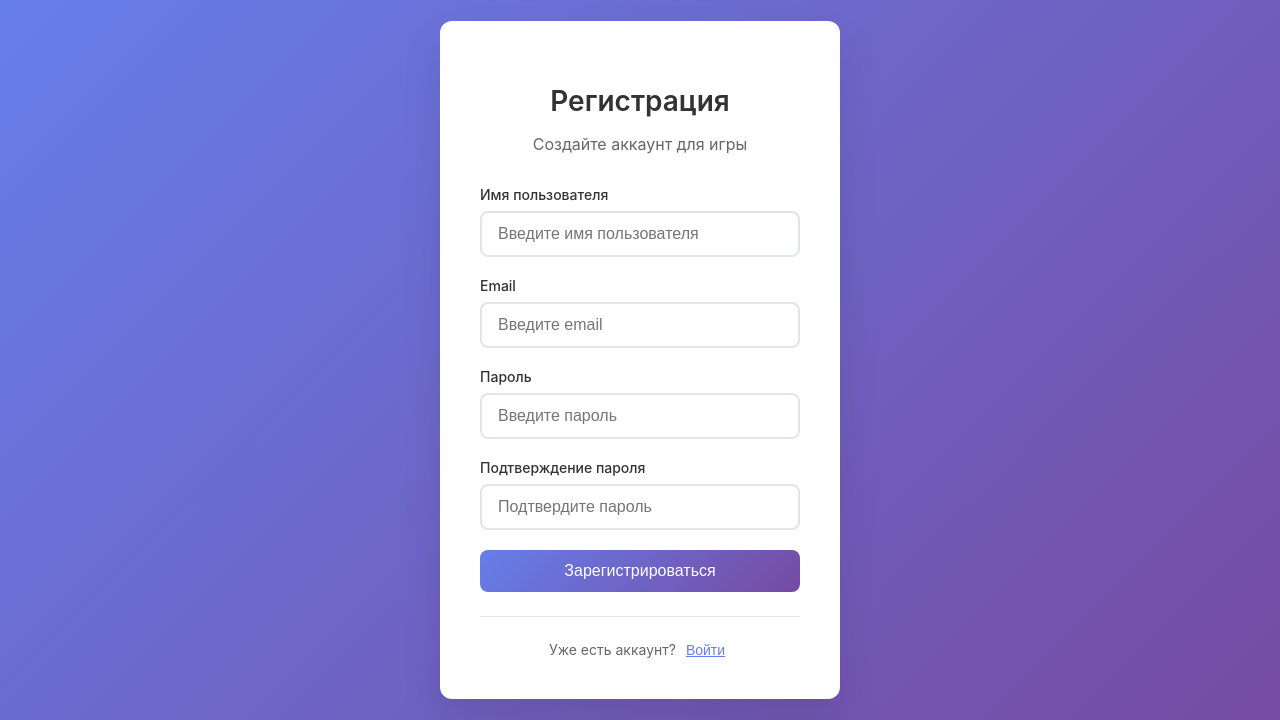
Test: RegisterForm › Validation - username › should show error when username is too short
The width and height of the screenshot is (1280, 720).
Type "ab" into the field labelled "Имя пользователя".
click(640, 234); type("ab")  # box left=480, top=211, right=800, bottom=257
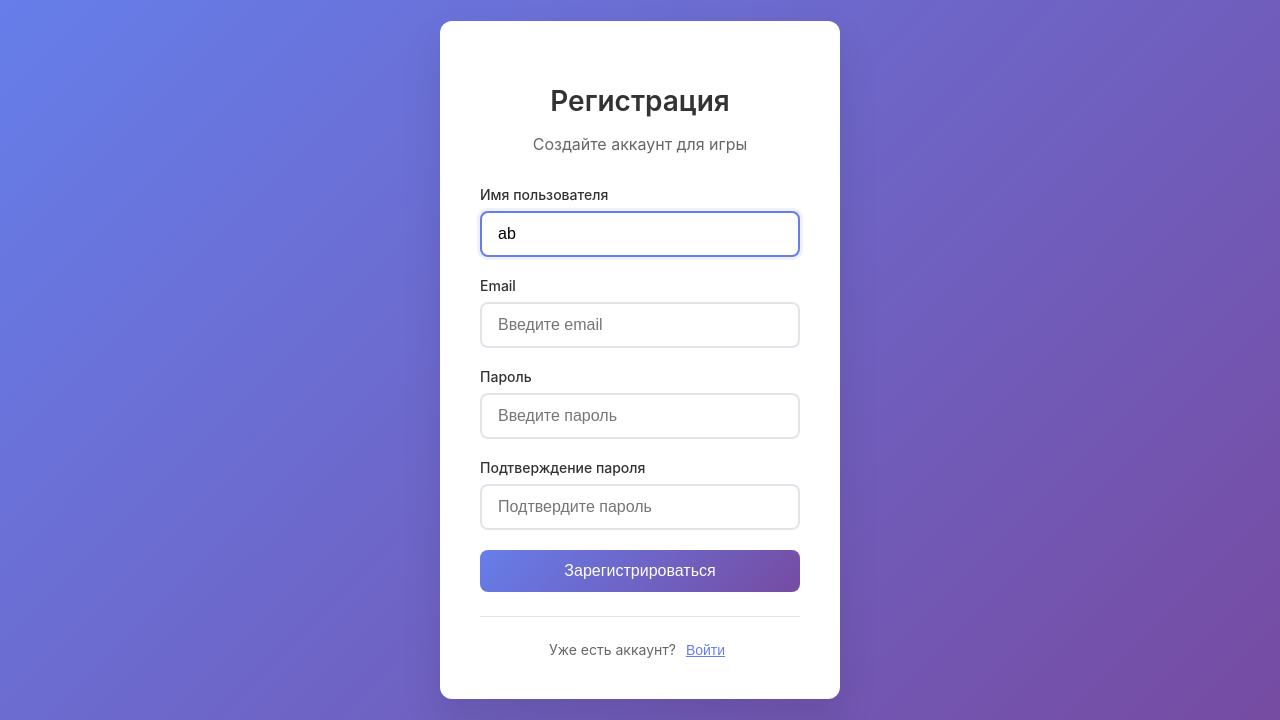
Click the button "Зарегистрироваться".
click(640, 571)  # box left=480, top=550, right=800, bottom=592
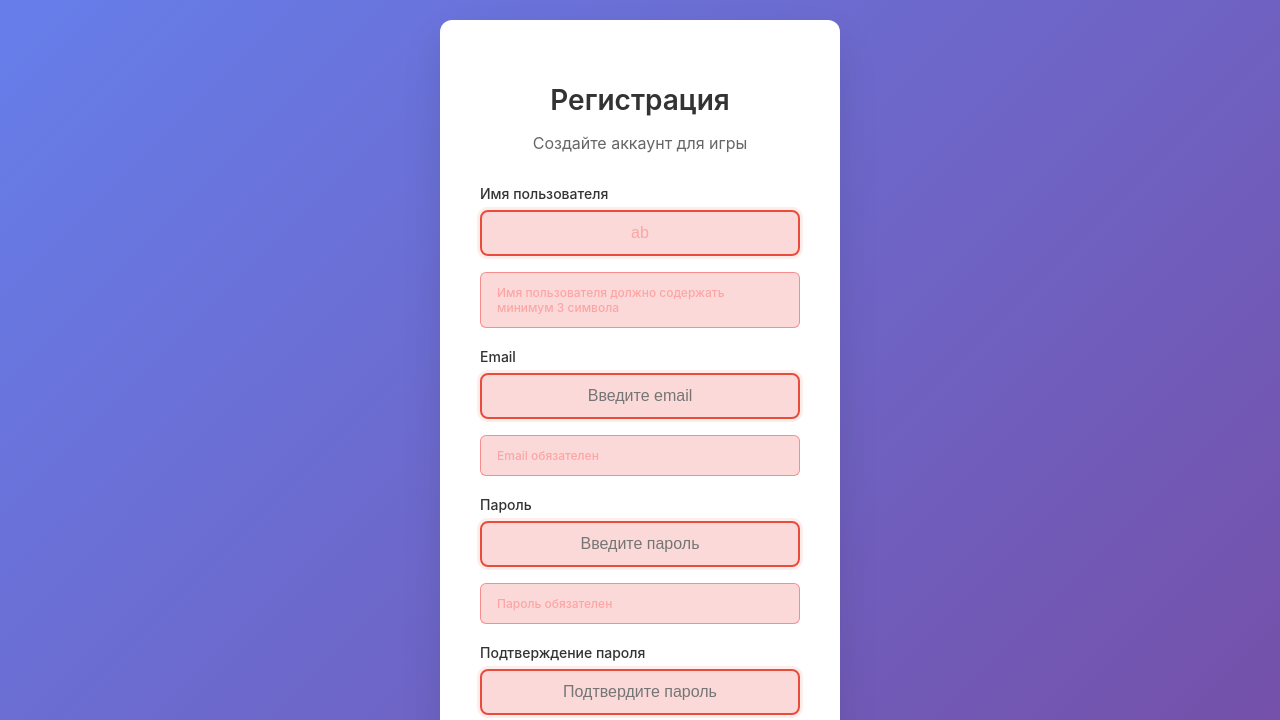
Now the text "Имя пользователя должно содержать минимум 3 символа" is shown, box left=480, top=272, right=800, bottom=328
